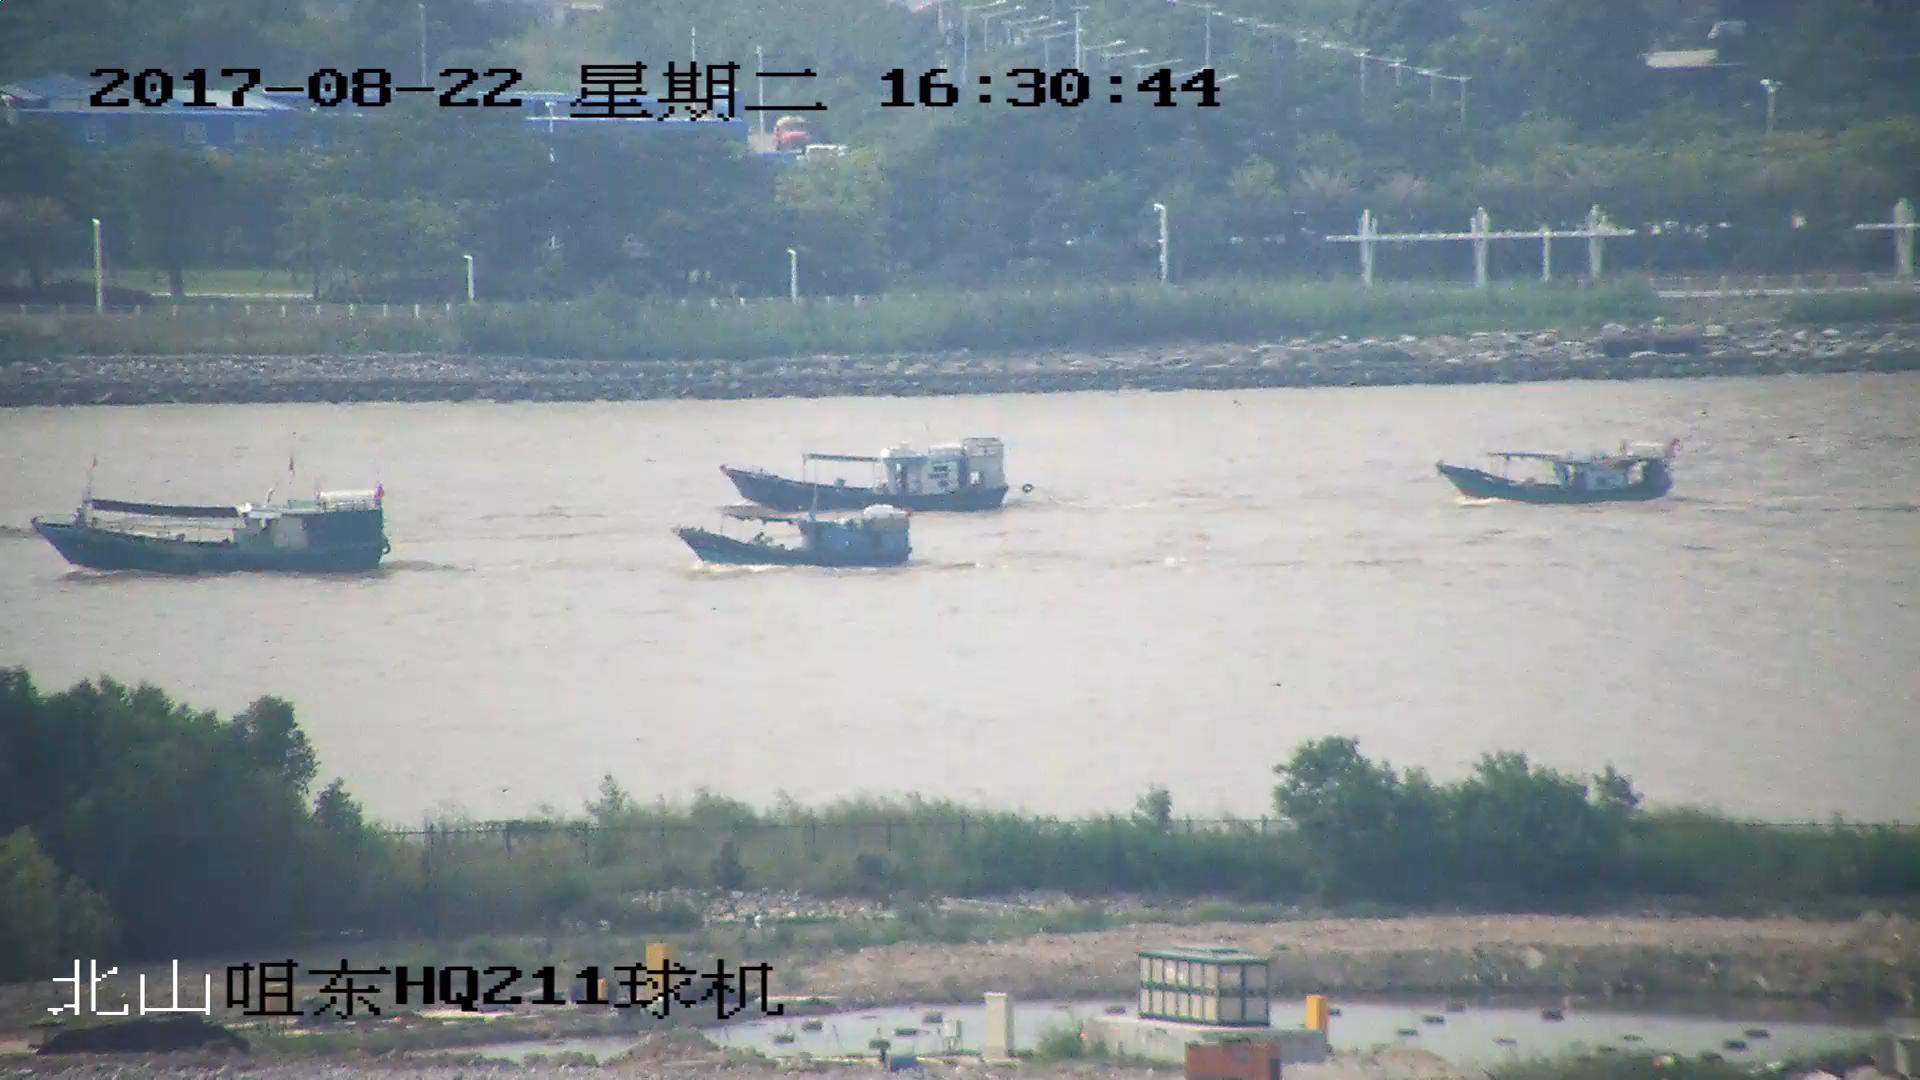fishing boat: (35, 465, 387, 578), (721, 441, 1018, 514), (680, 507, 916, 567), (1438, 444, 1684, 503)
